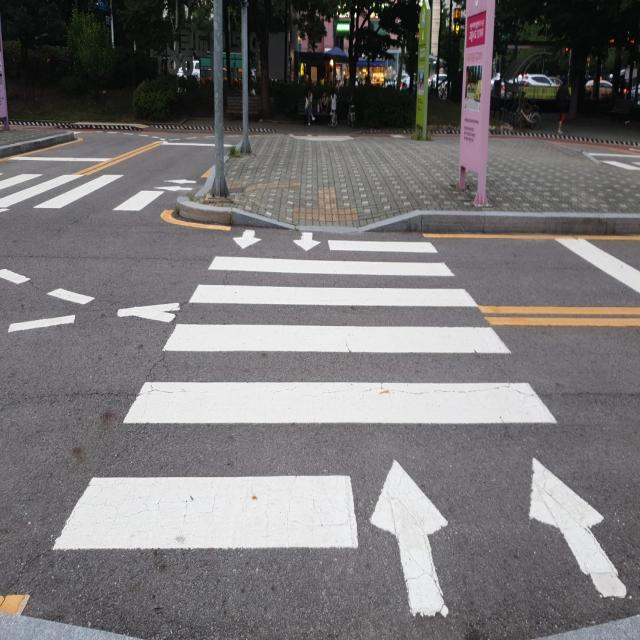횡단보도: (50, 222, 628, 640), (0, 168, 172, 214)
